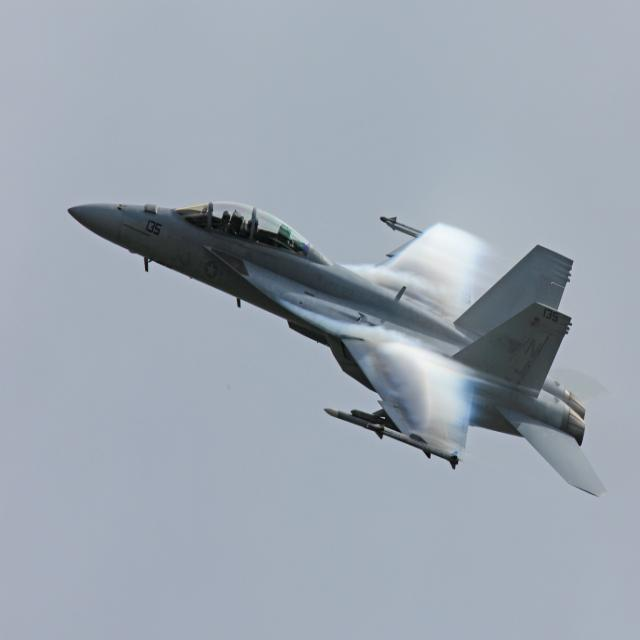MIL_Plane: (68, 201, 612, 498)
